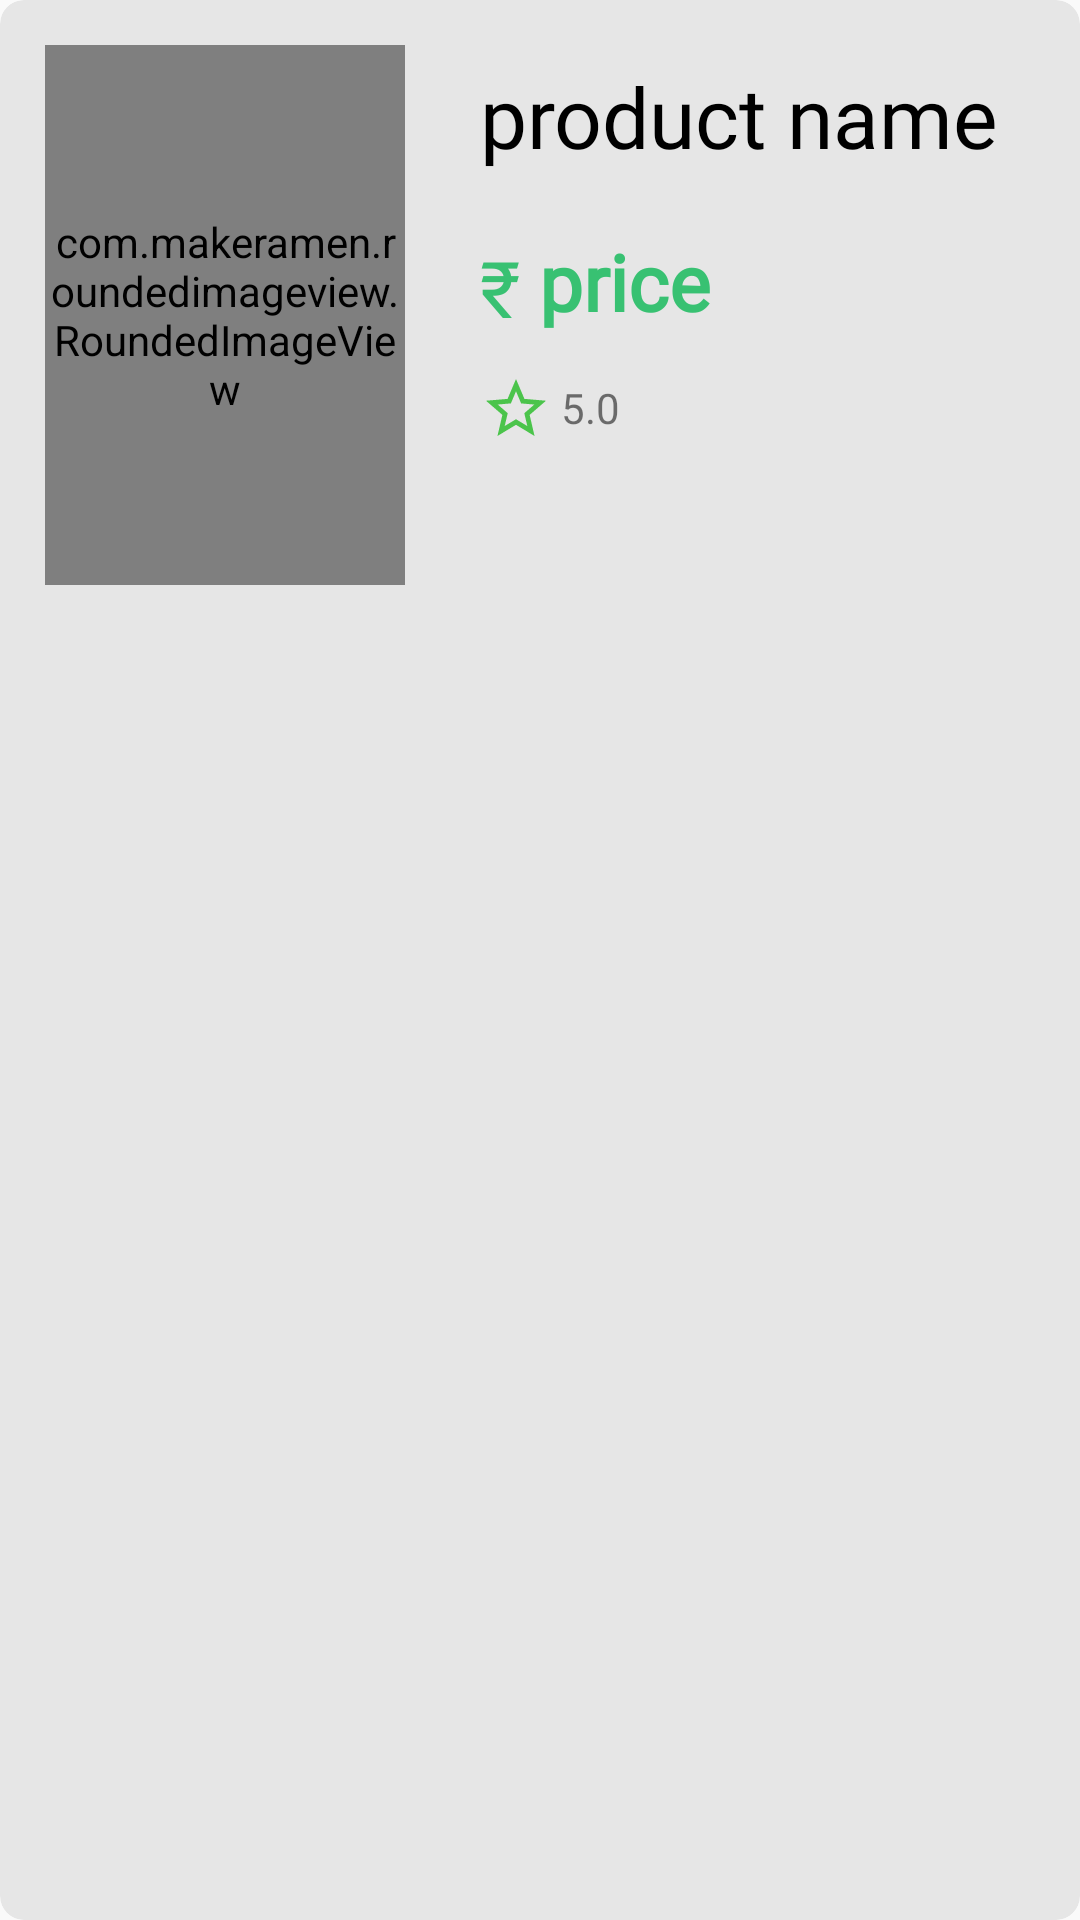

Named icons in this screenshot (1080*1920) and their bounding boxes, Rect(x1, y1, x2, y2):
star border: Rect(486, 379, 546, 436)
